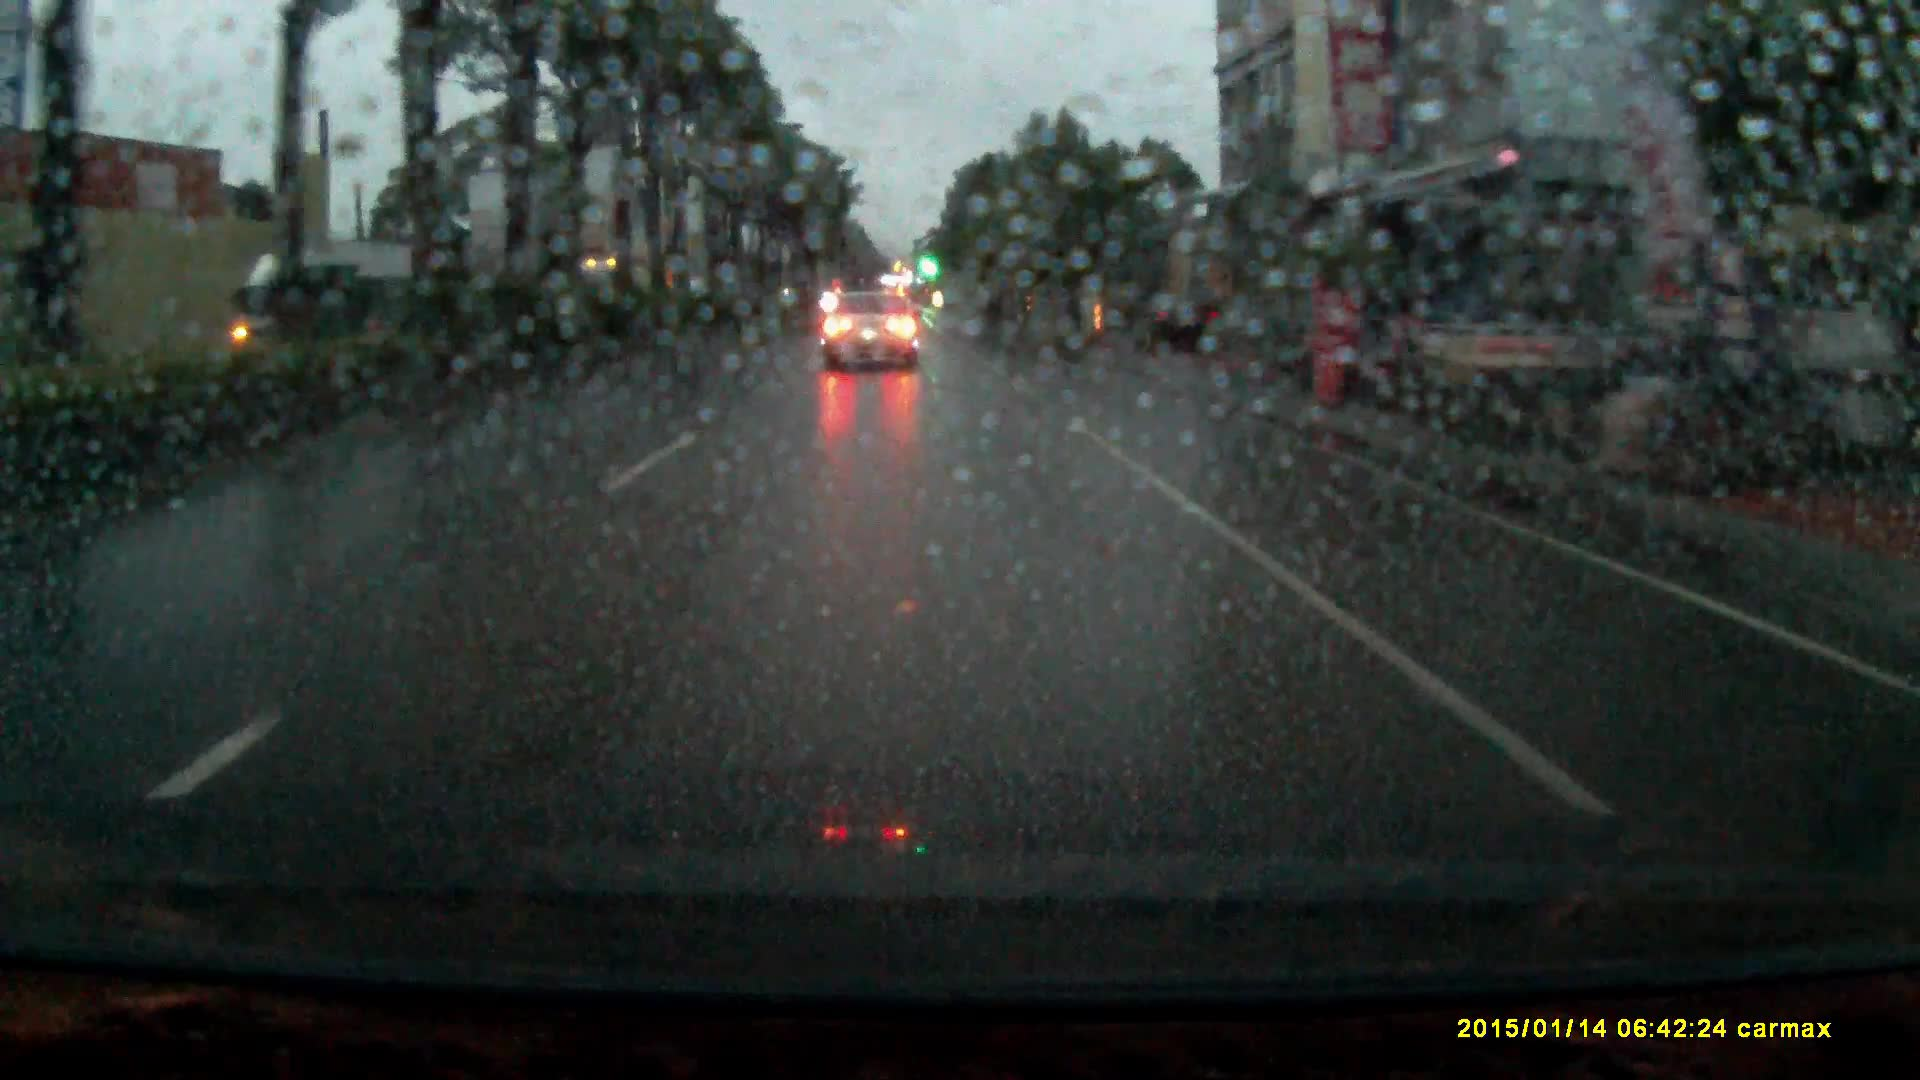vehicle: (232, 247, 415, 355), (823, 291, 923, 377), (1131, 294, 1224, 363), (578, 266, 655, 297)
